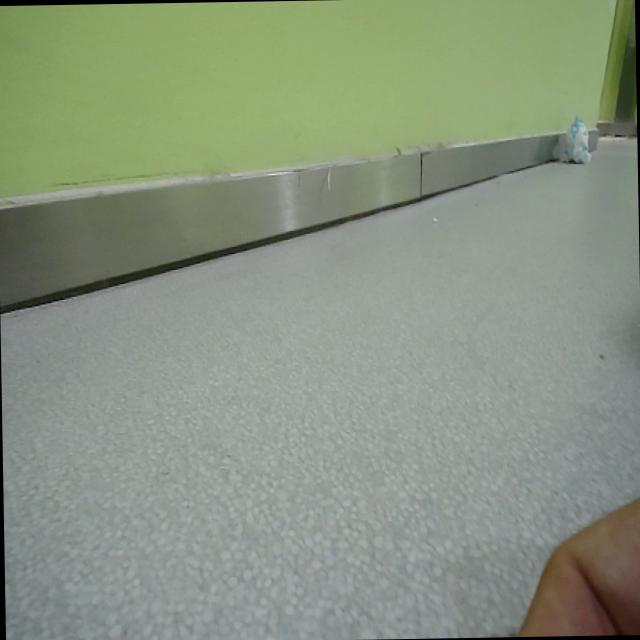xiaoba: (563, 110, 596, 171)
